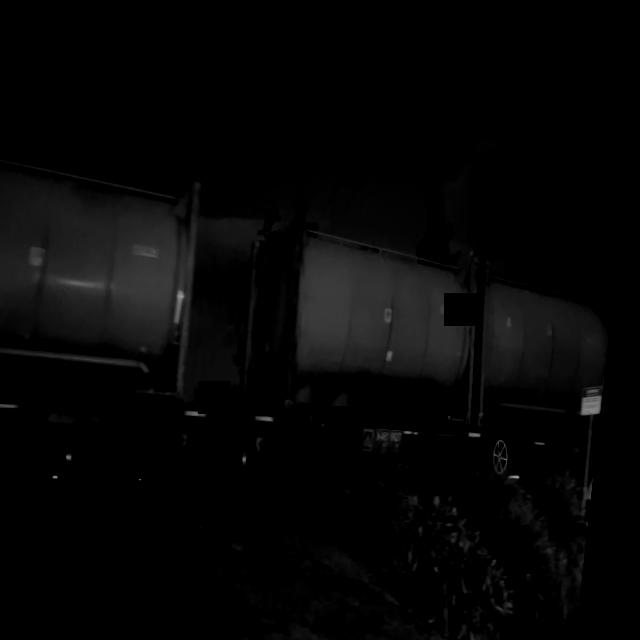tank: (240, 187, 502, 430), (0, 140, 215, 410), (467, 233, 623, 431)
